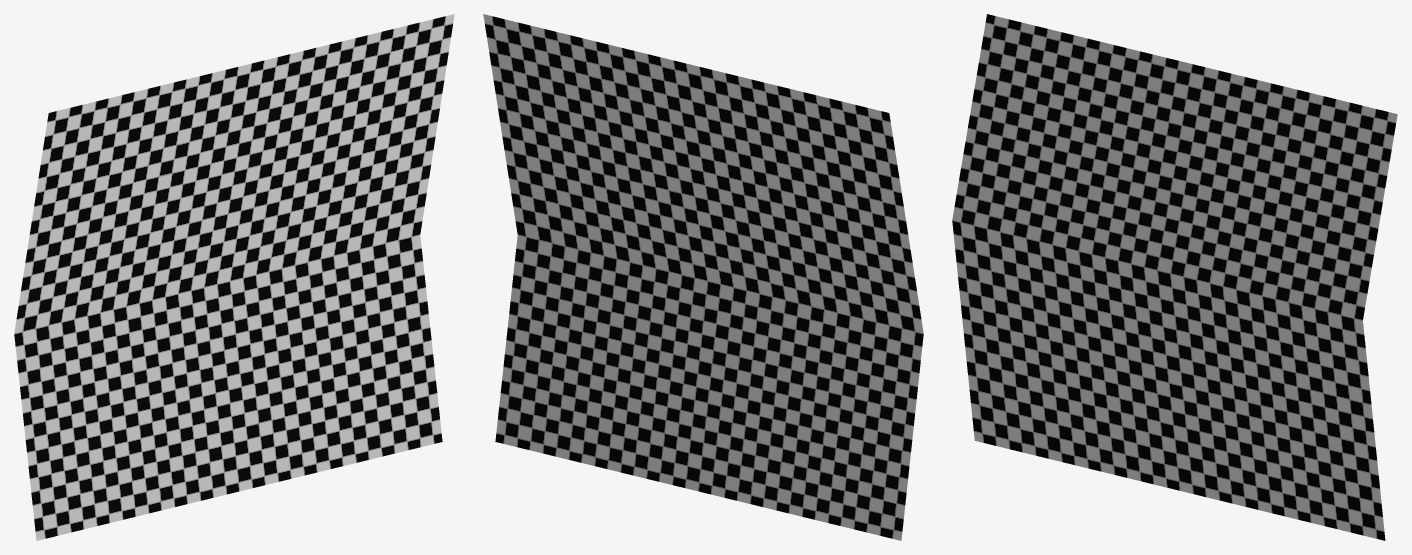
File: naflli2.dae
3 views of the same model, side by side, from view 1: azimuth 30°, elevation 25°; view 2: azimuth 150°, elevation 25°; view 3: azimuth 330°, elevation 25° (orthographic).
Visible parts, largest first — view 1: waterplant01; view 2: waterplant01; view 3: waterplant01.
Part boxes in pixels (x1,y1,x2,y2): waterplant01: [14, 14, 454, 540]; waterplant01: [483, 14, 923, 540]; waterplant01: [952, 14, 1397, 540].
Size of the model in its own units: 1.09 by 1.2e-07 by 1.01.
1 material, 1 textured.
